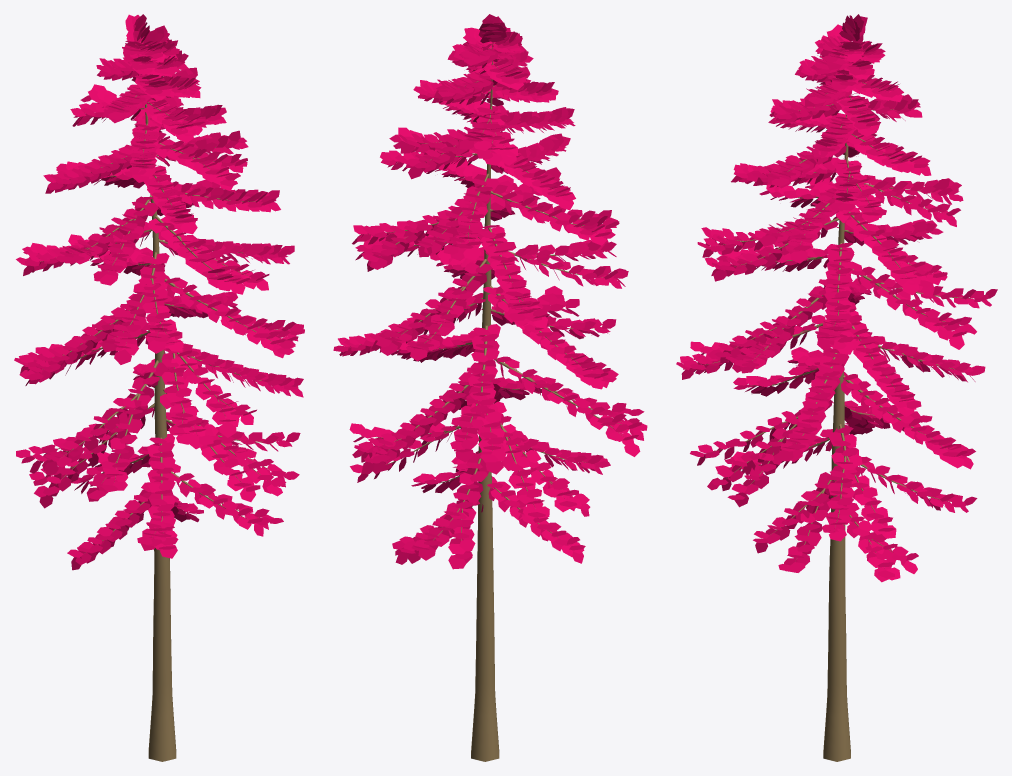
File: Redpines.glb
3 views of the same model, side by side, from view 1: azimuth 30°, elevation 25°; view 2: azimuth 150°, elevation 25°; view 3: azimuth 270°, elevation 25° (orthographic). The views are drawn at different scales.
Parts seen in each view (by area): view 1: leaves, tree; view 2: leaves, tree; view 3: leaves, tree.
Boxes of the visible parts, x1,y1,x2,y2 form: leaves: (14, 14, 304, 570); tree: (40, 39, 279, 761); leaves: (333, 14, 647, 569); tree: (360, 43, 622, 761); leaves: (676, 14, 997, 582); tree: (698, 82, 971, 761).
Size of the model in its own units: 18.39 by 47.1 by 18.73.
